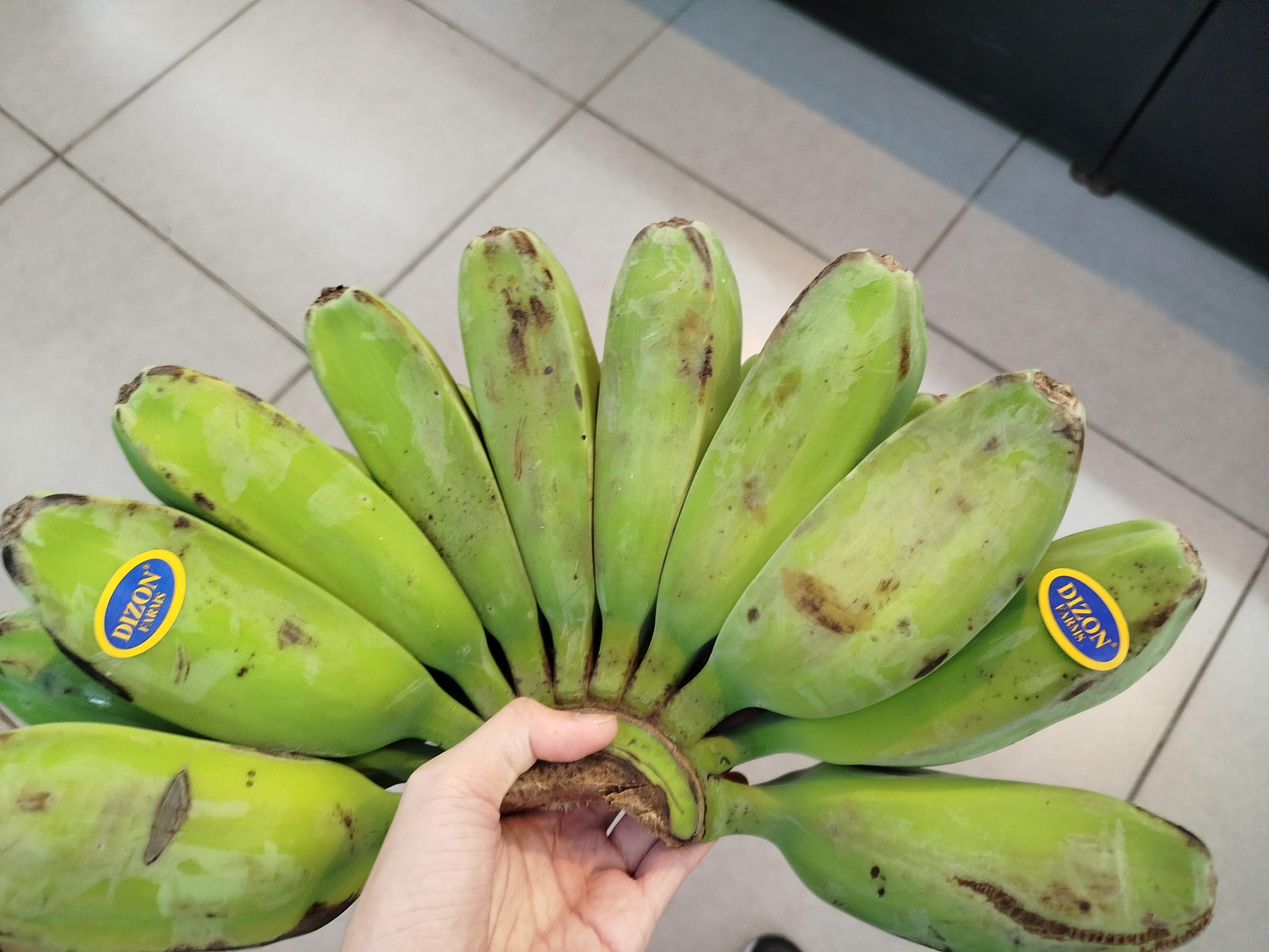underripe: (0, 221, 1216, 949)
